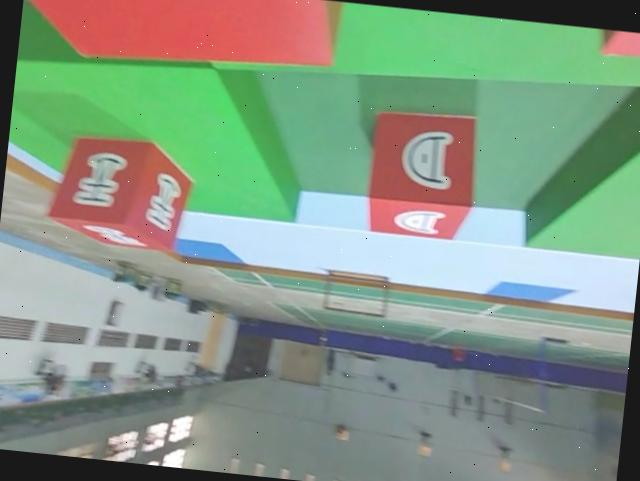R2 Real: (45, 130, 198, 257), (362, 106, 484, 245)
